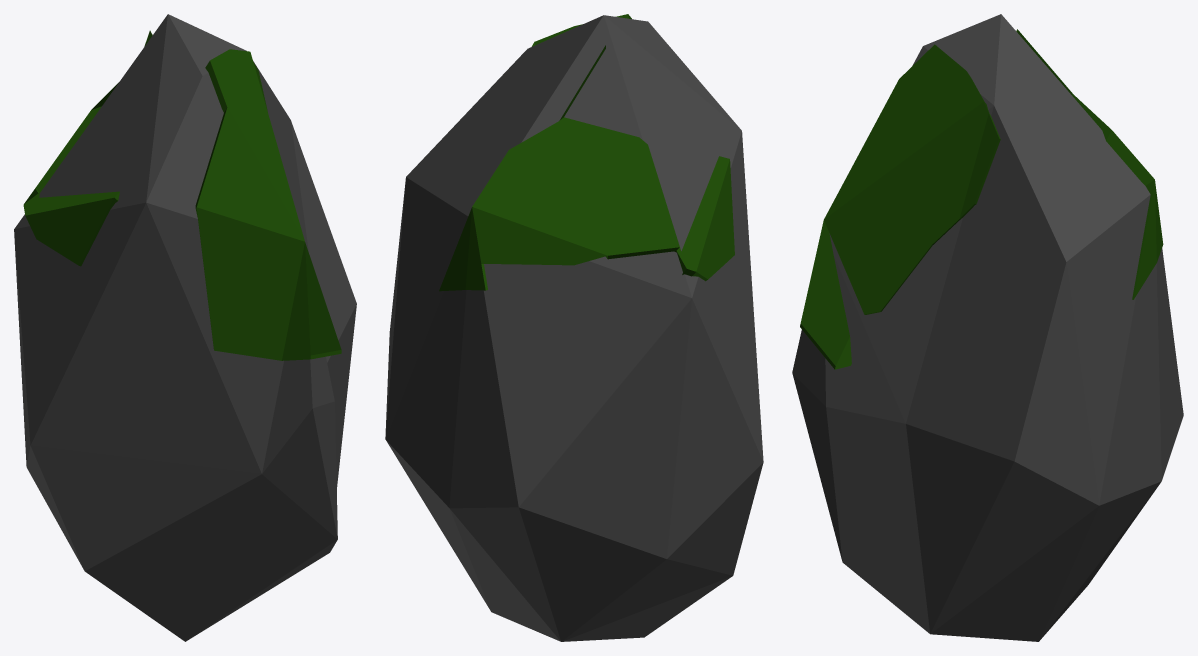
Rendered from Sea_Rock6.fbx.
3 views of the same model, side by side, from view 1: azimuth 30°, elevation 25°; view 2: azimuth 150°, elevation 25°; view 3: azimuth 270°, elevation 25° (orthographic). The views are drawn at different scales.
Visible parts, largest first — view 1: Icosphere.004; view 2: Icosphere.004; view 3: Icosphere.004.
Boxes of the visible parts, bbox=[...] form: Icosphere.004: bbox=[14, 14, 356, 641]; Icosphere.004: bbox=[385, 14, 763, 641]; Icosphere.004: bbox=[792, 14, 1183, 641].
Bounding box in the file's own units: 532 × 905 × 519.
